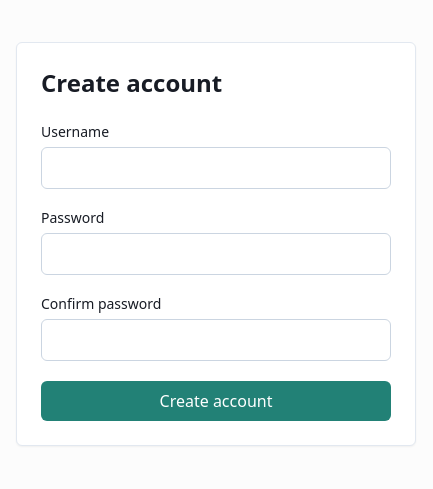
AuthForm › shows signup validation when password is too short
Type "casey" into the field labelled "Username".
click(216, 168); type("casey")  # box [41, 147, 391, 189]
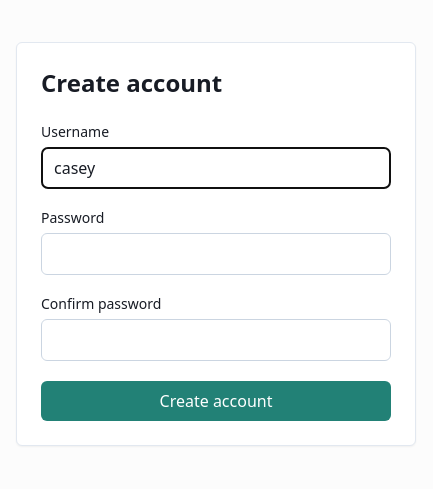
Type "short" into the password field labelled "Password".
click(216, 254); type("short")  # box [41, 233, 391, 275]
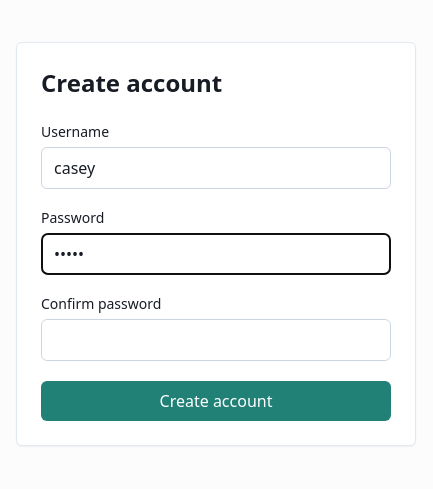
Type "short" into the password field labelled "Confirm password".
click(216, 340); type("short")  # box [41, 319, 391, 361]
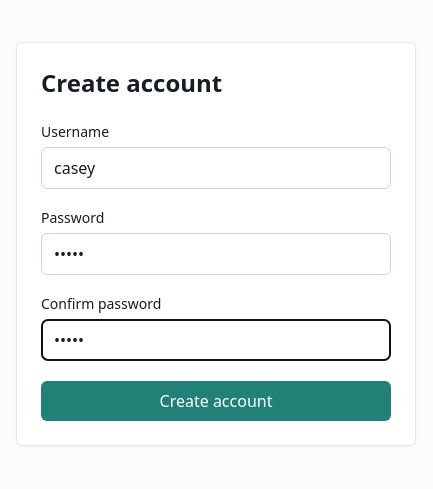
Click the button "Create account".
click(216, 401)  # box [41, 381, 391, 421]
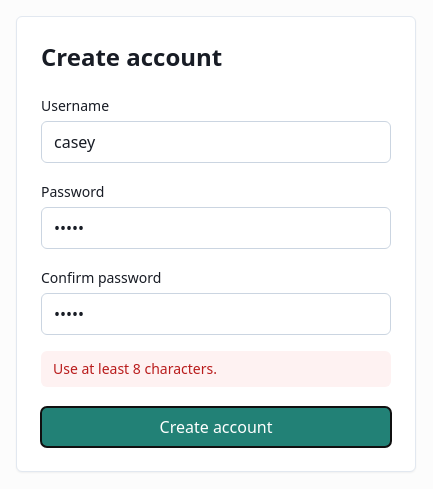
Now the message reads "Use at least 8 characters.", box [53, 359, 217, 378]
